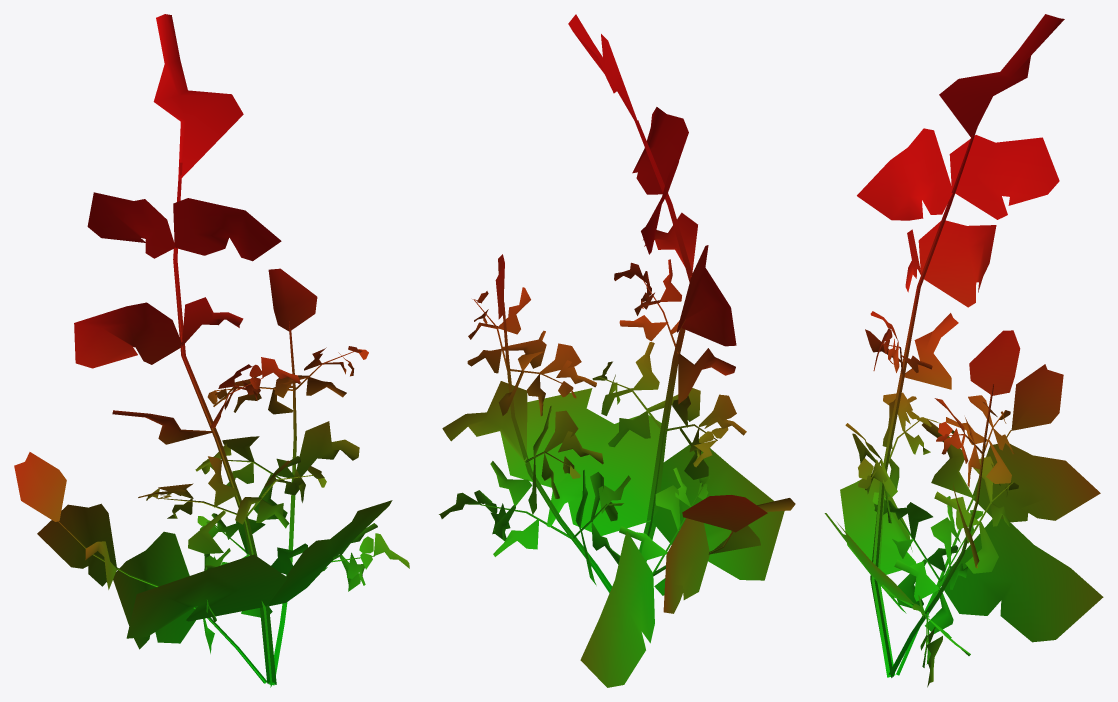
File: White Ramping Fumitory_LOD2_Var4_ti4efc3ia.fbx
The picture shows the model from 3 angles, left to right: view 1: azimuth 30°, elevation 25°; view 2: azimuth 150°, elevation 25°; view 3: azimuth 270°, elevation 25°; orthographic projection. The views are drawn at different scales.
Parts seen in each view (by area): view 1: _c516_Var4_LOD2; view 2: _c516_Var4_LOD2; view 3: _c516_Var4_LOD2.
Boxes of the visible parts, box(x1,y1,x2,y2) form: _c516_Var4_LOD2: box(14, 14, 409, 687); _c516_Var4_LOD2: box(439, 14, 795, 687); _c516_Var4_LOD2: box(824, 14, 1103, 687).
Bounding box in the file's own units: 28.8 × 49.43 × 19.22.
